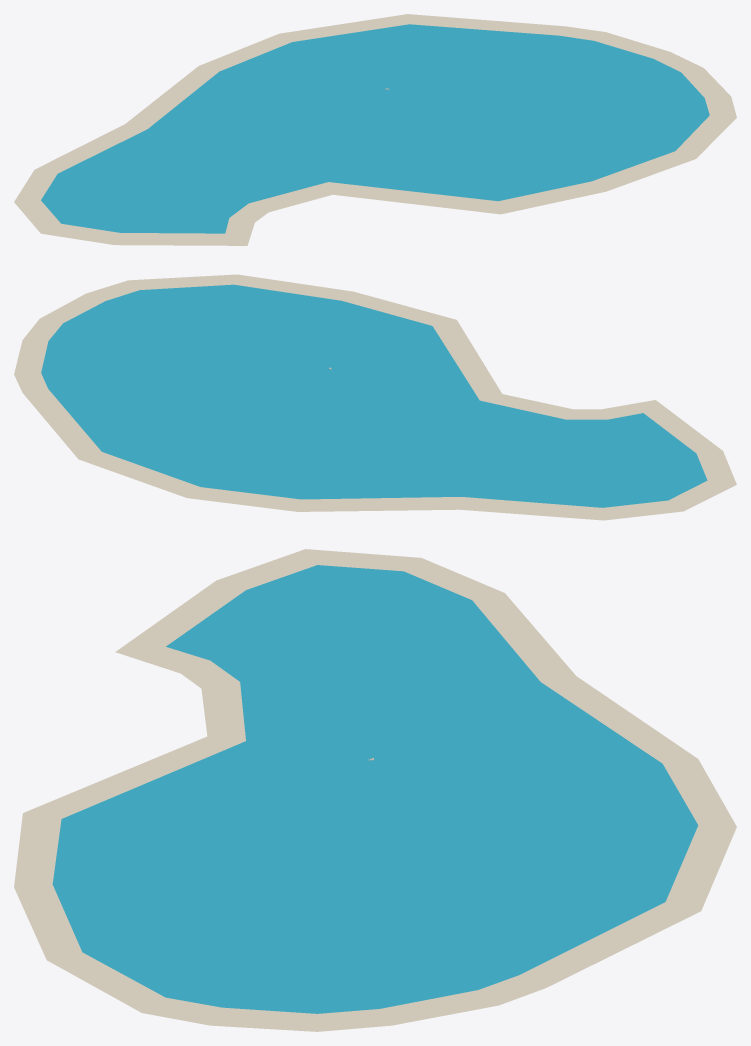
Rendered from pbpool_m20_m17.glb.
The picture shows the model from 3 angles, top to bottom: view 1: azimuth 30°, elevation 25°; view 2: azimuth 150°, elevation 25°; view 3: azimuth 270°, elevation 25°; orthographic projection. The views are drawn at different scales.
Parts seen in each view (by area): view 1: pbpool_m20_m17_lod0; view 2: pbpool_m20_m17_lod0; view 3: pbpool_m20_m17_lod0.
Boxes of the visible parts, x1,y1,x2,y2 form: pbpool_m20_m17_lod0: (14,14,736,245); pbpool_m20_m17_lod0: (14,274,736,520); pbpool_m20_m17_lod0: (14,549,736,1031).
Size of what is drawn, in the model's own units: 38.4 by 2.11 by 24.3.
